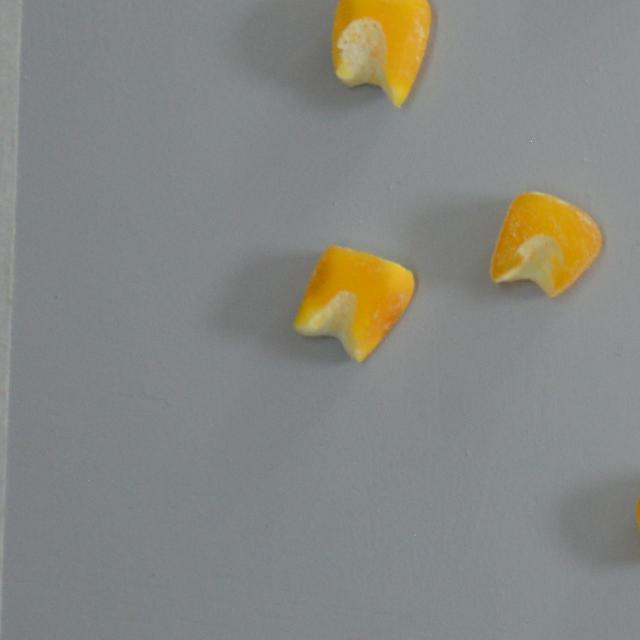no_canjicado: (290, 244, 415, 363)
pelicula: (489, 189, 603, 298), (329, 0, 432, 110)
